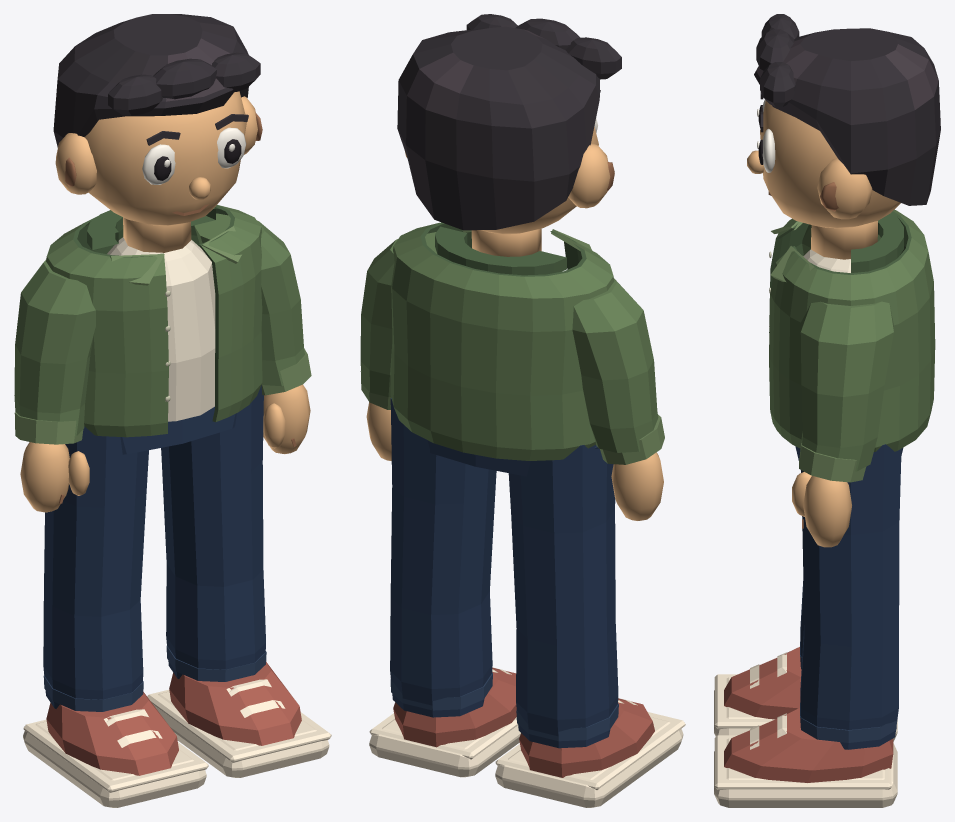
Rendered from campus_visitor_man_v01.glb.
3 renders of one model, left to right at view 1: azimuth 30°, elevation 25°; view 2: azimuth 150°, elevation 25°; view 3: azimuth 270°, elevation 25°, orthographic. The views are drawn at different scales.
Parts seen in each view (by area): view 1: campus_visitor_man; view 2: campus_visitor_man; view 3: campus_visitor_man.
Boxes of the visible parts, left/top/right/bottom form: campus_visitor_man: left=14, top=14, right=331, bottom=807; campus_visitor_man: left=360, top=14, right=685, bottom=807; campus_visitor_man: left=714, top=14, right=940, bottom=807.
Bounding box in the file's own units: 0.7738 × 1.81 × 0.5191.
1 material, 1 textured.
